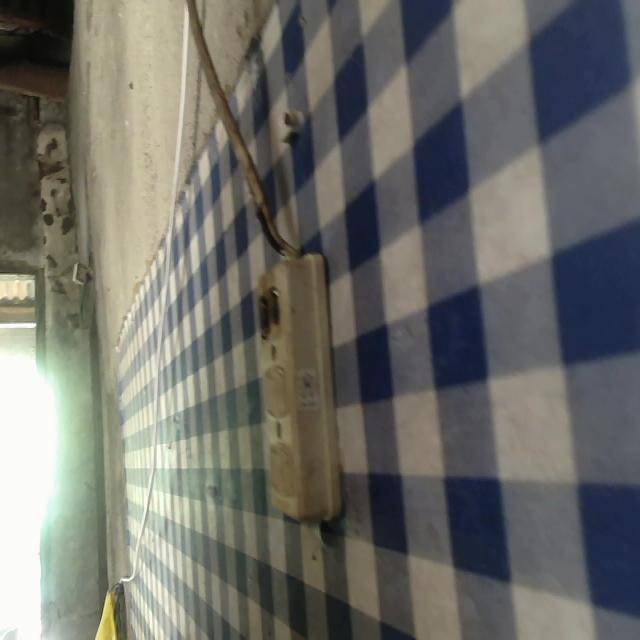-: (254, 285, 292, 340)
